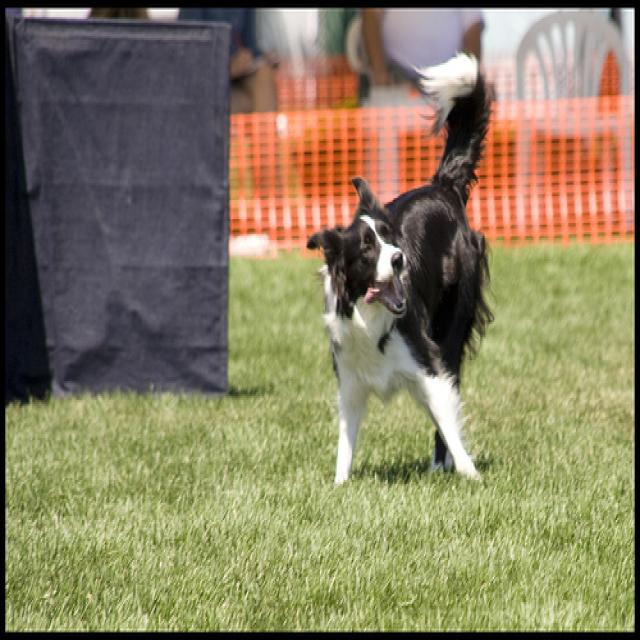chair: (513, 9, 636, 232)
dog: (307, 49, 495, 487)
